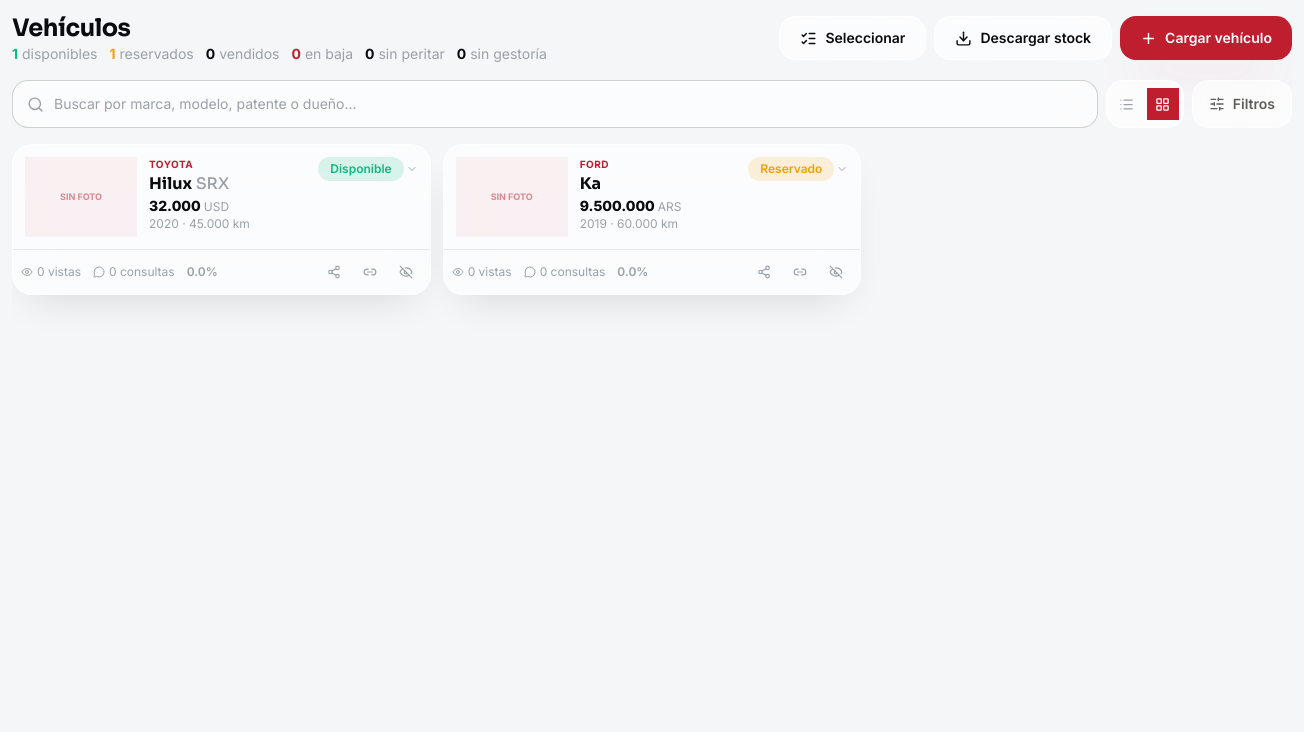
Test: SeleccionVehiculos en VehiculosListPage › clic en una card en modo selección la remarca y muestra la barra con N seleccionados
Step 1. Click the button "Seleccionar" → (853, 38), box [779,16,926,60]
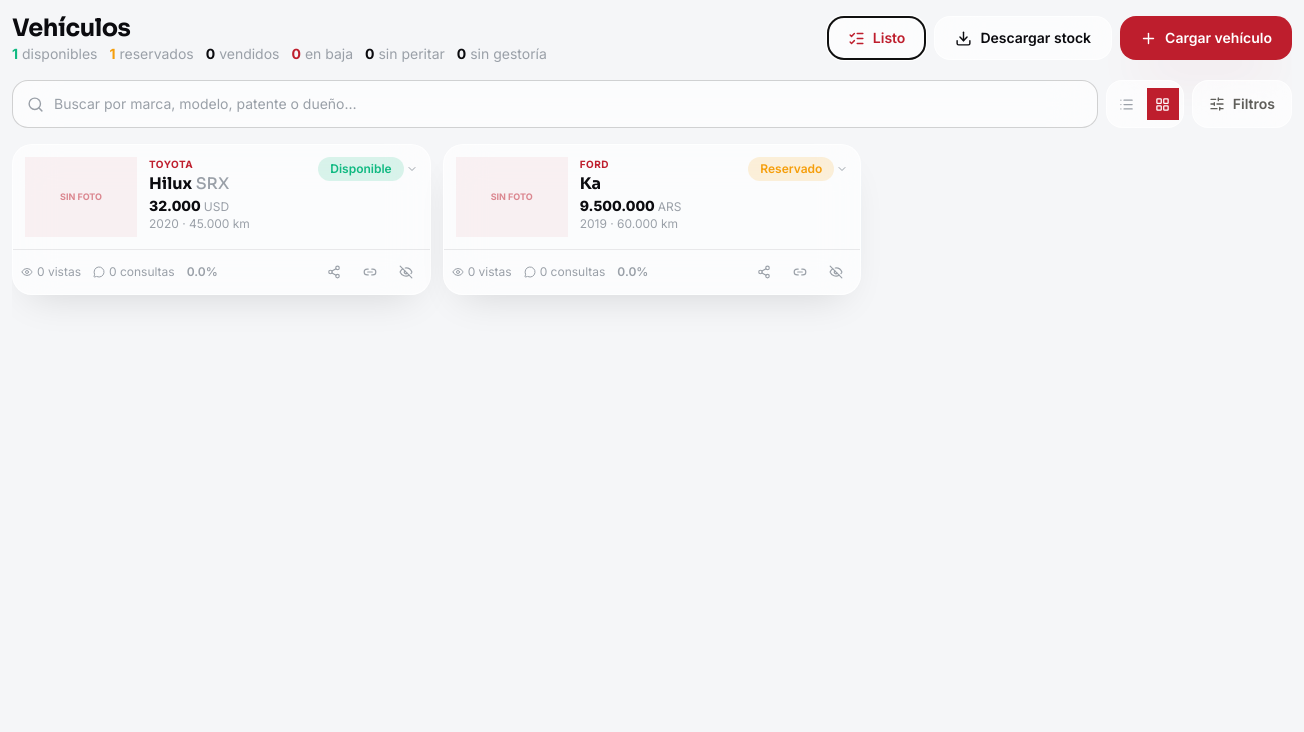
Step 2. Click the text "Toyota" → (171, 164), box [149,158,193,170]
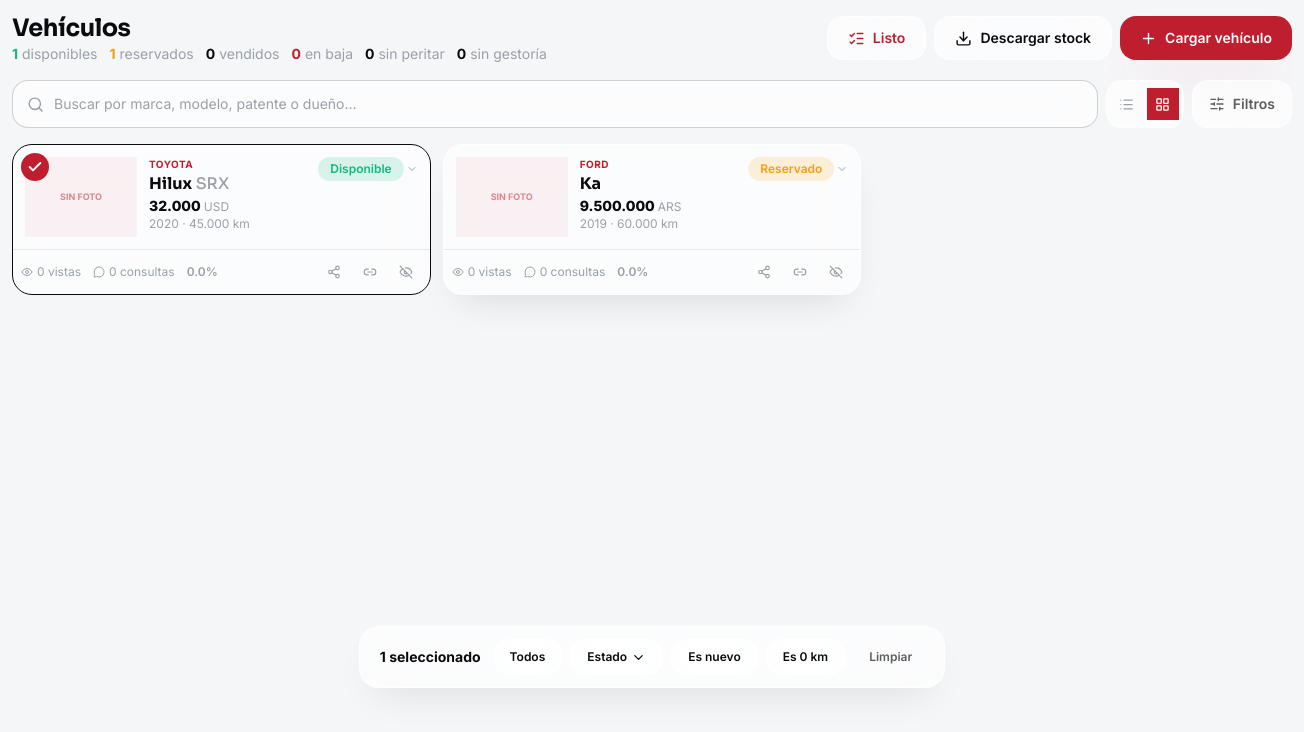
Check: the element with test id "check-seleccion" is shown, box [21,153,49,181]
Check: the text "1 seleccionado" is shown, box [376,647,485,667]
Check: the element with test id "barra-masiva" is shown, box [359,626,945,688]
